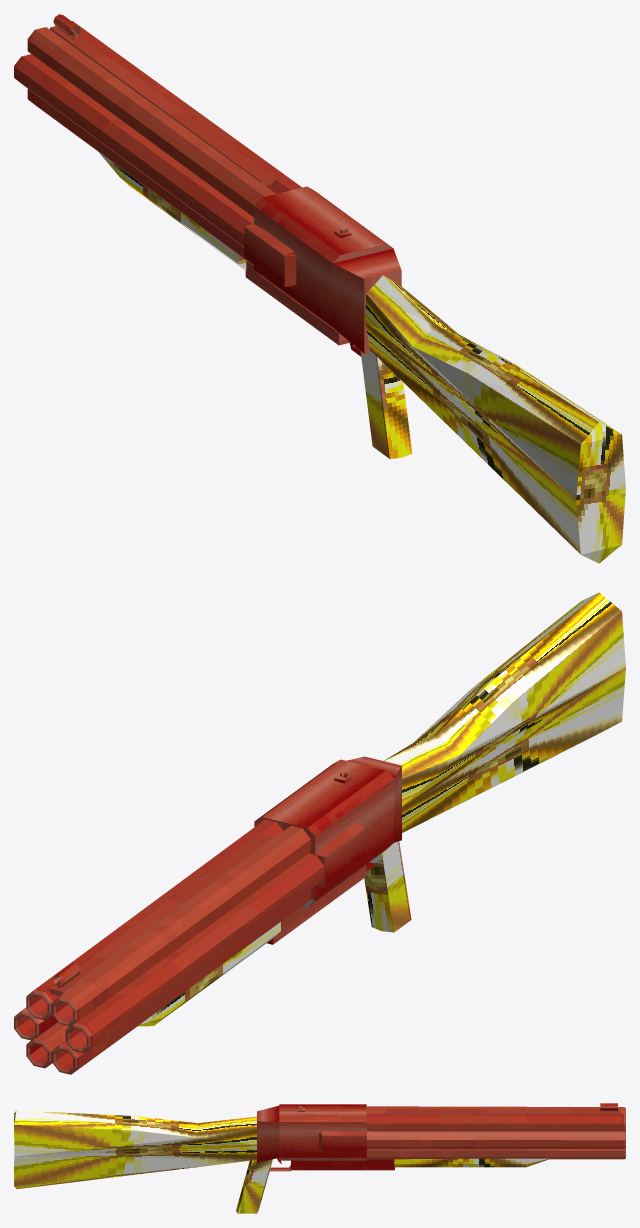
Rendered from six_barrels_shotgun.obj.
3 views of the same model, one above another, from view 1: azimuth 30°, elevation 25°; view 2: azimuth 150°, elevation 25°; view 3: azimuth 270°, elevation 25° (orthographic). The views are drawn at different scales.
Parts seen in each view (by area): view 1: Torus.009_Torus.008, Torus.000; view 2: Torus.009_Torus.008, Torus.000; view 3: Torus.009_Torus.008, Torus.000.
Boxes of the visible parts, box(x1,y1,x2,y2) form: Torus.009_Torus.008: box(244, 186, 625, 563); Torus.000: box(14, 14, 301, 270); Torus.009_Torus.008: box(254, 592, 625, 944); Torus.000: box(14, 819, 324, 1074); Torus.009_Torus.008: box(14, 1104, 394, 1213); Torus.000: box(367, 1103, 625, 1167).
Bounding box in the file's own units: 0.6336 × 1.42 × 7.35.
